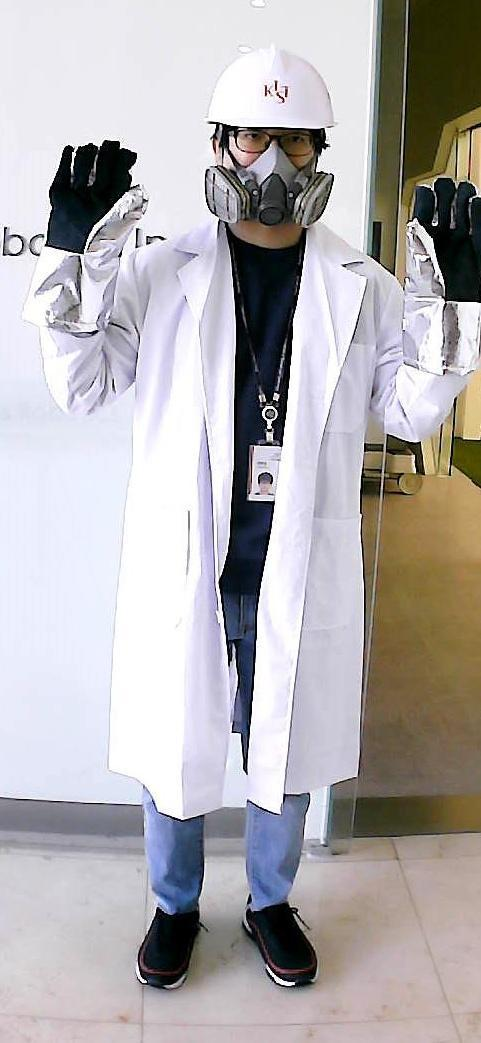lab_coat: (116, 258, 400, 786)
